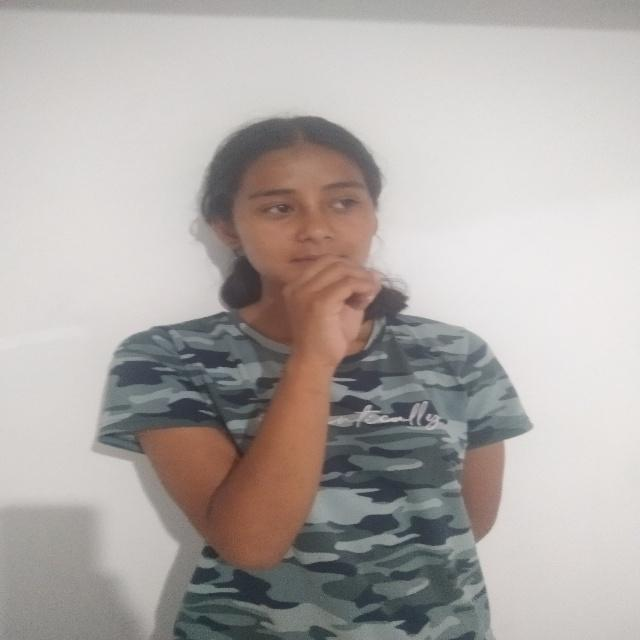Fist Mouth: (186, 122, 420, 343)
